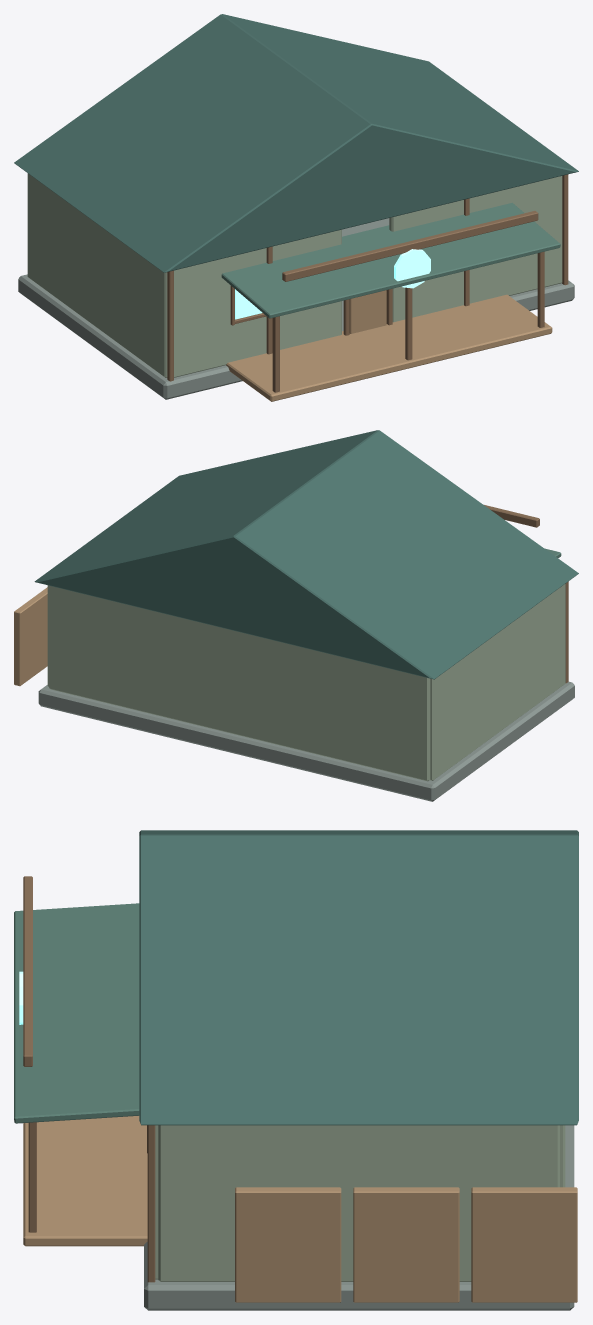
The model's file is LumenProvingLodge.glb.
3 renders of one model, top to bottom at view 1: azimuth 30°, elevation 25°; view 2: azimuth 150°, elevation 25°; view 3: azimuth 270°, elevation 25°, orthographic. The views are drawn at different scales.
Parts seen in each view (by area): view 1: LumenProvingLodge; view 2: LumenProvingLodge; view 3: LumenProvingLodge.
Part boxes in pixels (x1,y1,x2,y2): LumenProvingLodge: (14, 14, 578, 401); LumenProvingLodge: (14, 430, 578, 801); LumenProvingLodge: (14, 830, 578, 1310).
Bounding box in the file's own units: 30.98 × 15.47 × 23.9.
